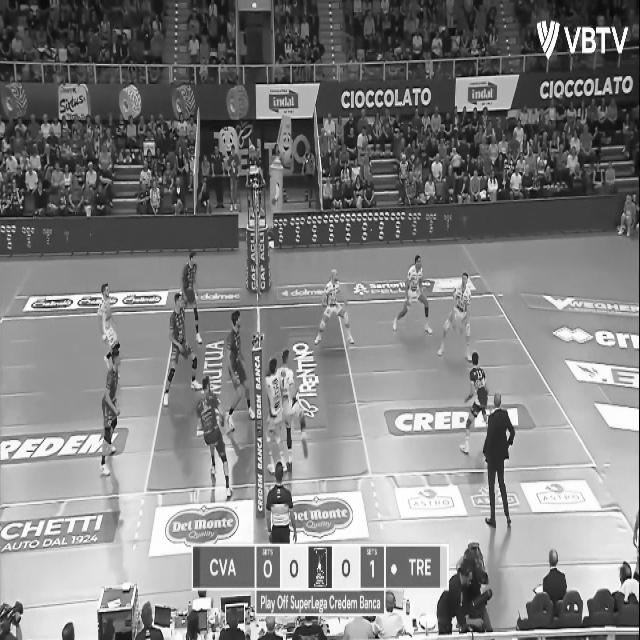volleyball court: (0, 291, 597, 501)
